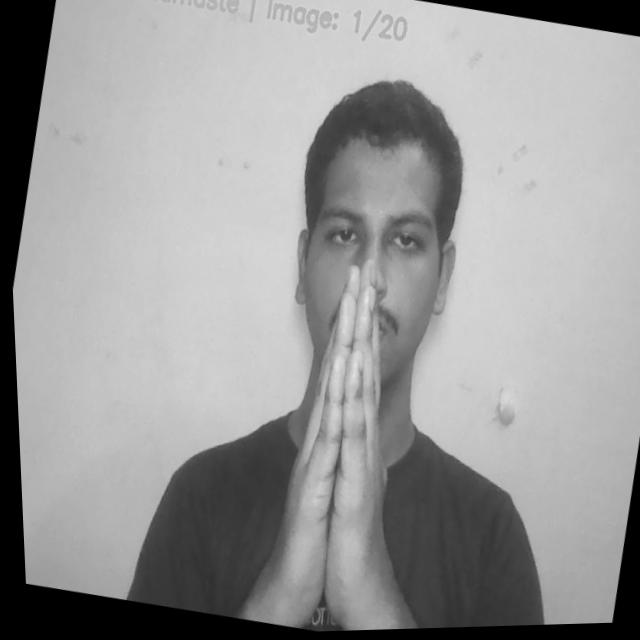Namaste: (247, 253, 430, 634)
